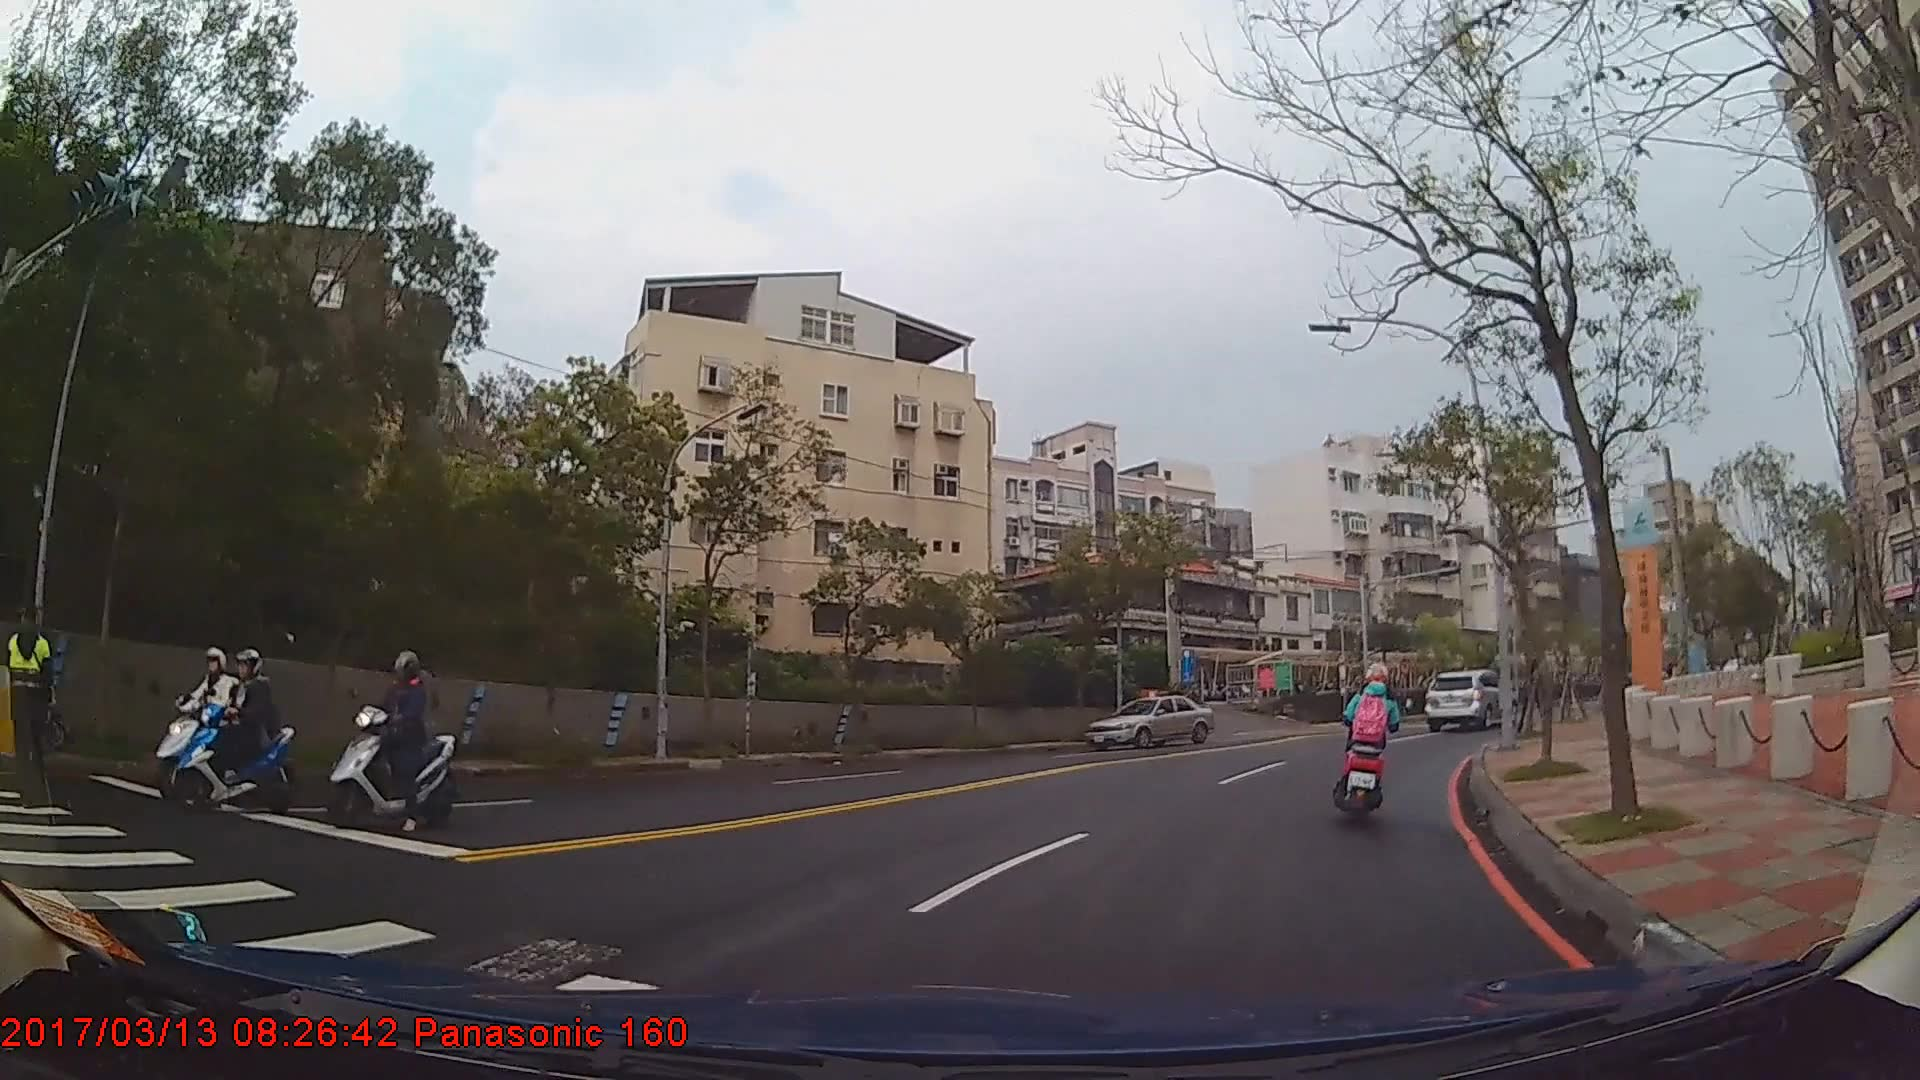pedestrian: (1, 599, 77, 808)
rider: (325, 652, 456, 838), (183, 650, 287, 809), (160, 648, 255, 793), (1335, 665, 1399, 812)
vehicle: (1082, 693, 1211, 751), (1423, 669, 1514, 732)
